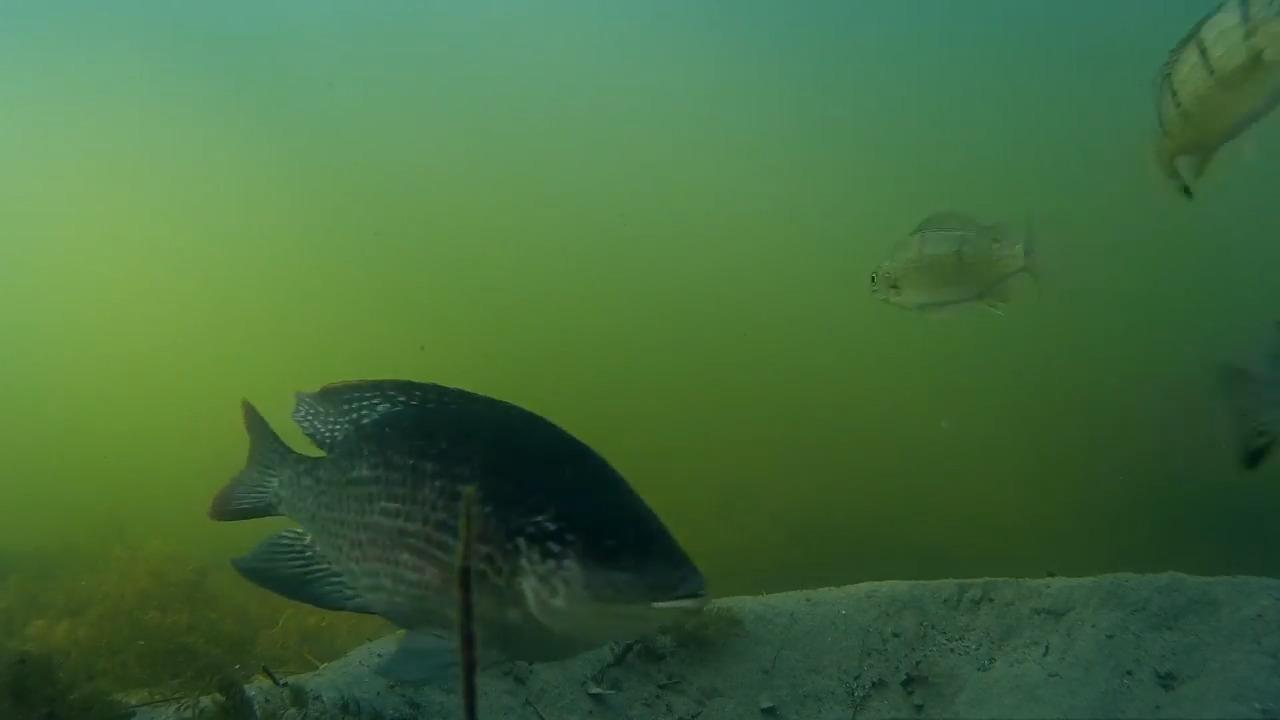Tilapia: (207, 374, 714, 686), (1104, 0, 1275, 202), (842, 218, 1053, 336)
